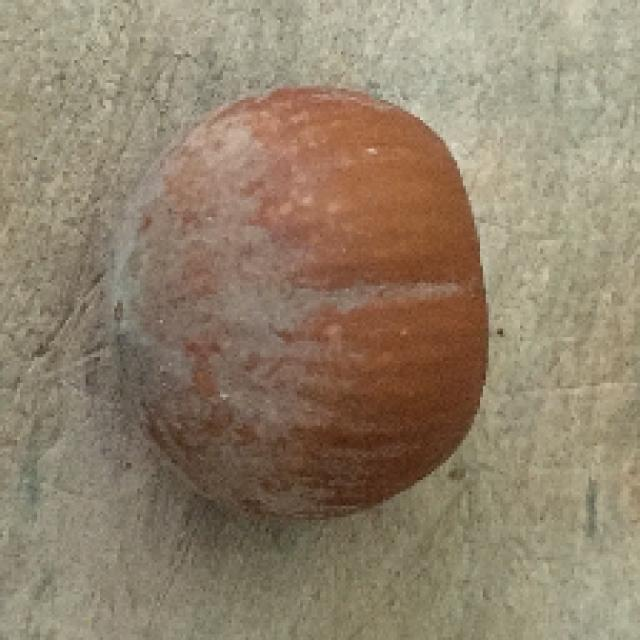qualityHazelnut: (108, 86, 495, 526)
